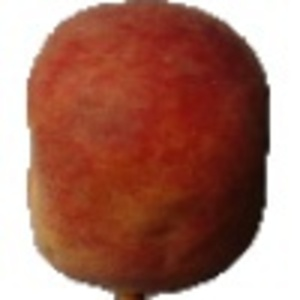pêssego: (24, 1, 271, 300)
